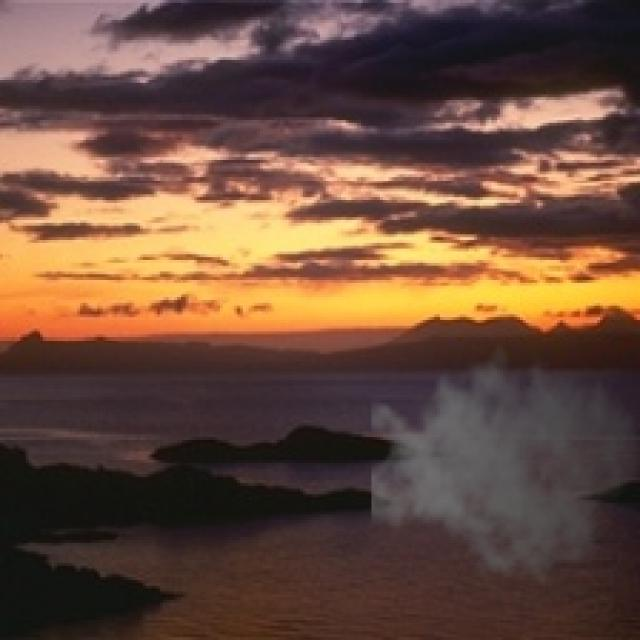smoke: (372, 332, 637, 592)
